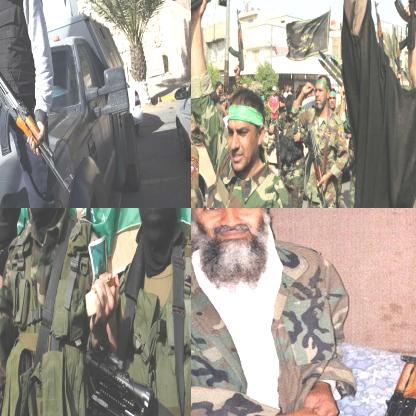rifle: (0, 39, 75, 196), (84, 346, 190, 415), (369, 336, 415, 415), (302, 128, 330, 207), (229, 8, 247, 74)
